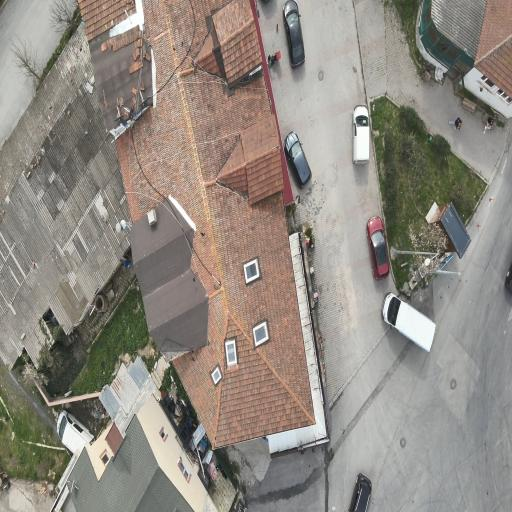car: (382, 293, 435, 351), (58, 411, 94, 454), (284, 132, 311, 188), (367, 216, 389, 280), (283, 0, 304, 67), (353, 105, 370, 164), (349, 474, 371, 511), (506, 264, 511, 292)
person: (448, 117, 462, 130), (484, 117, 493, 133)
